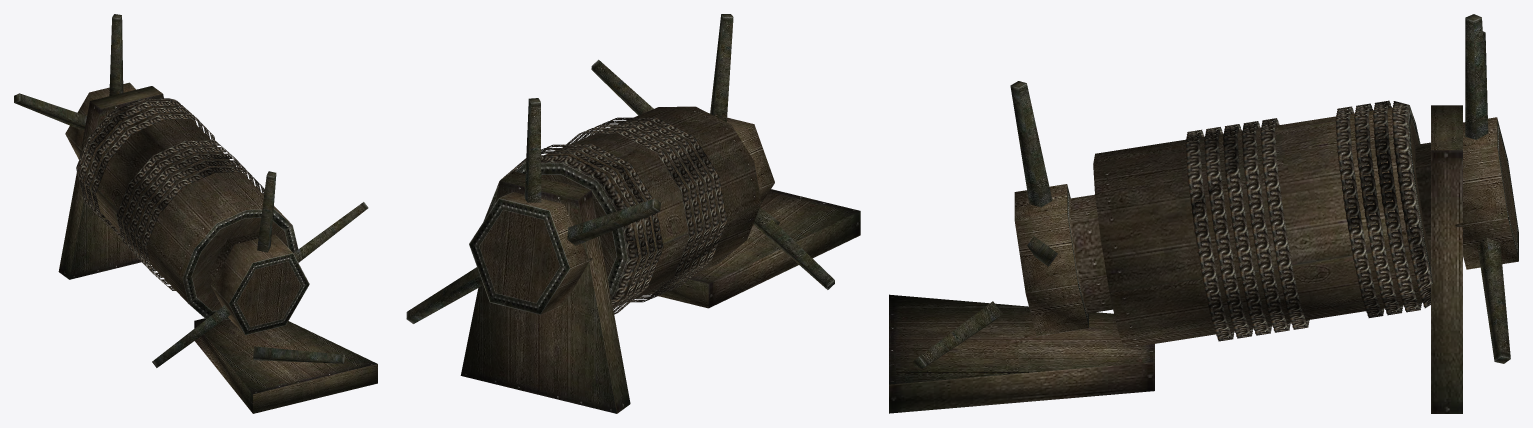
The model's file is KM_VOB_DESTROYED_TURNSTILE.glb.
The picture shows the model from 3 angles, left to right: view 1: azimuth 30°, elevation 25°; view 2: azimuth 150°, elevation 25°; view 3: azimuth 270°, elevation 25°; orthographic projection. The views are drawn at different scales.
Visible parts, largest first — view 1: Mesh; view 2: Mesh; view 3: Mesh.
Boxes of the visible parts, left/top/right/bottom form: Mesh: left=14, top=14, right=377, bottom=413; Mesh: left=406, top=14, right=860, bottom=413; Mesh: left=889, top=14, right=1518, bottom=413.
Size of the model in its own units: 1.33 by 1.48 by 2.4.
Materials: 3 (3 with a texture image).
